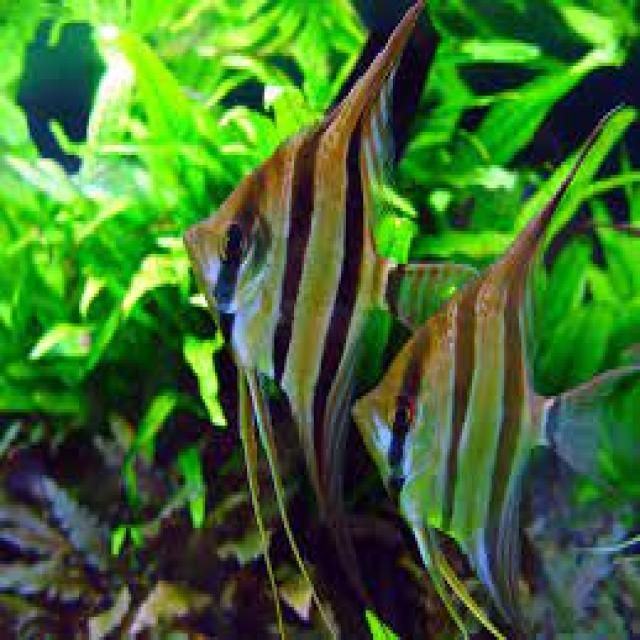AngelFish: (346, 103, 635, 625), (182, 2, 400, 623)
